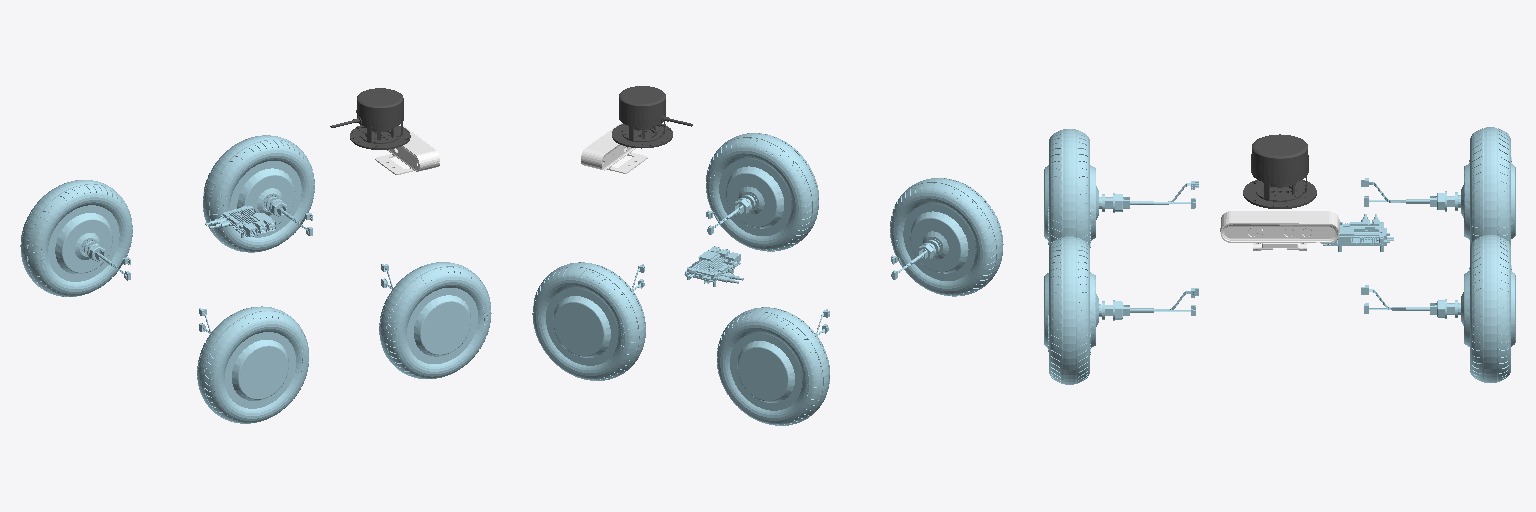
The robot description file, URDF, robot "S200_diff_robot":
<?xml version="1.0" encoding="utf-8"?>
<!-- This URDF was automatically created by SolidWorks to URDF Exporter! Originally created by [author] ([email redacted]) 
     Commit Version: 1.6.0-4-g7f85cfe  Build Version: 1.6.7995.38578
     For more information, please see http://wiki.ros.org/sw_urdf_exporter -->
<robot
  name="S200_diff_robot">
  <link
    name="base_link">
    <inertial>
      <origin
        xyz="-0.0082751 -0.036756 0.079893"
        rpy="0 0 0" />
      <mass
        value="8.9762" />
      <inertia
        ixx="0.059402"
        ixy="8.4154E-05"
        ixz="-0.00082885"
        iyy="0.056701"
        iyz="-3.3321E-05"
        izz="0.10541" />
    </inertial>
    <visual>
      <origin
        xyz="0 0 0"
        rpy="0 0 0" />
      <geometry>
        <mesh
          filename="package://wheeltec_robot_urdf/meshes/S200_diff_robot_meshes/base_link.STL" />
      </geometry>
      <material
        name="">
        <color
          rgba="0.37647 0.37647 0.37647 1" />
      </material>
    </visual>
    <collision>
      <origin
        xyz="0 0 0"
        rpy="0 0 0" />
      <geometry>
        <mesh
          filename="package://wheeltec_robot_urdf/meshes/S200_diff_robot_meshes/base_link.STL" />
      </geometry>
    </collision>
  </link>
  <link
    name="laser_link">
    <inertial>
      <origin
        xyz="-0.00116387542477436 -1.43341130733055E-05 -0.0153253315835694"
        rpy="0 0 0" />
      <mass
        value="0.0744137203029274" />
      <inertia
        ixx="5.07812779984651E-05"
        ixy="-1.80357505374744E-08"
        ixz="-9.82567135455483E-07"
        iyy="5.528331966904E-05"
        iyz="-7.35435978669885E-10"
        izz="8.82566127125562E-05" />
    </inertial>
    <visual>
      <origin
        xyz="0 0 0"
        rpy="0 0 0" />
      <geometry>
        <mesh
          filename="package://wheeltec_robot_urdf/meshes/S200_diff_robot_meshes/laser_link.STL" />
      </geometry>
      <material
        name="">
        <color
          rgba="0.376470588235294 0.376470588235294 0.376470588235294 1" />
      </material>
    </visual>
    <collision>
      <origin
        xyz="0 0 0"
        rpy="0 0 0" />
      <geometry>
        <mesh
          filename="package://wheeltec_robot_urdf/meshes/S200_diff_robot_meshes/laser_link.STL" />
      </geometry>
    </collision>
  </link>
  <joint
    name="laser_joint"
    type="fixed">
    <origin
      xyz="0.24012752875972 0.000105321716951851 0.29003261086643"
      rpy="0 0 0" />
    <parent
      link="base_link" />
    <child
      link="laser_link" />
    <axis
      xyz="0 0 0" />
  </joint>
  <link
    name="camera_link">
    <inertial>
      <origin
        xyz="-0.00177242984917677 -1.55648592166935E-05 -0.00181083880658627"
        rpy="0 0 0" />
      <mass
        value="0.0602274954022693" />
      <inertia
        ixx="0.000133435926180343"
        ixy="-9.96617453031448E-07"
        ixz="1.6229934269714E-06"
        iyy="1.97954968729884E-05"
        iyz="-4.42334063856432E-08"
        izz="0.000134690240666836" />
    </inertial>
    <visual>
      <origin
        xyz="0 0 0"
        rpy="0 0 0" />
      <geometry>
        <mesh
          filename="package://wheeltec_robot_urdf/meshes/S200_diff_robot_meshes/camera_link.STL" />
      </geometry>
      <material
        name="">
        <color
          rgba="1 1 1 1" />
      </material>
    </visual>
    <collision>
      <origin
        xyz="0 0 0"
        rpy="0 0 0" />
      <geometry>
        <mesh
          filename="package://wheeltec_robot_urdf/meshes/S200_diff_robot_meshes/camera_link.STL" />
      </geometry>
    </collision>
  </link>
  <joint
    name="camera_joint"
    type="fixed">
    <origin
      xyz="0.291921528759723 0.000328321716947771 0.21270400000001"
      rpy="0 0 0" />
    <parent
      link="base_link" />
    <child
      link="camera_link" />
    <axis
      xyz="0 0 0" />
  </joint>
  <link
    name="controller_link">
    <inertial>
      <origin
        xyz="-0.0215180544575649 -0.101576840092756 -0.0142985393665018"
        rpy="0 0 0" />
      <mass
        value="16.3135324061328" />
      <inertia
        ixx="0.86101016894643"
        ixy="0.00458450849928628"
        ixz="0.00423806972153881"
        iyy="0.510377444459043"
        iyz="-0.00315891208106369"
        izz="1.24639568502167" />
    </inertial>
    <visual>
      <origin
        xyz="0 0 0"
        rpy="0 0 0" />
      <geometry>
        <mesh
          filename="package://wheeltec_robot_urdf/meshes/S200_diff_robot_meshes/controller_link.STL" />
      </geometry>
      <material
        name="">
        <color
          rgba="0.741176470588235 0.901960784313726 0.956862745098039 1" />
      </material>
    </visual>
    <collision>
      <origin
        xyz="0 0 0"
        rpy="0 0 0" />
      <geometry>
        <mesh
          filename="package://wheeltec_robot_urdf/meshes/S200_diff_robot_meshes/controller_link.STL" />
      </geometry>
    </collision>
  </link>
  <joint
    name="controller_joint"
    type="fixed">
    <origin
      xyz="0.0190603985474061 0.081401826363683 0.0766000028295759"
      rpy="0 0 0" />
    <parent
      link="base_link" />
    <child
      link="controller_link" />
    <axis
      xyz="0 0 0" />
  </joint>
  <link
    name="rb_wheel_link">
    <inertial>
      <origin
        xyz="6.21578804788081E-06 0.0010671650048456 2.10951664844083E-05"
        rpy="0 0 0" />
      <mass
        value="1.80067920965915" />
      <inertia
        ixx="0.00472216215920028"
        ixy="-1.70056190991038E-09"
        ixz="1.61065415604396E-07"
        iyy="0.00839319793490722"
        iyz="9.32957087360779E-08"
        izz="0.00472235590933654" />
    </inertial>
    <visual>
      <origin
        xyz="0 0 0"
        rpy="0 0 0" />
      <geometry>
        <mesh
          filename="package://wheeltec_robot_urdf/meshes/S200_diff_robot_meshes/rb_wheel_link.STL" />
      </geometry>
      <material
        name="">
        <color
          rgba="0.741176470588235 0.901960784313726 0.956862745098039 1" />
      </material>
    </visual>
    <collision>
      <origin
        xyz="0 0 0"
        rpy="0 0 0" />
      <geometry>
        <mesh
          filename="package://wheeltec_robot_urdf/meshes/S200_diff_robot_meshes/rb_wheel_link.STL" />
      </geometry>
    </collision>
  </link>
  <joint
    name="rb_wheel_joint"
    type="continuous">
    <origin
      xyz="-0.173380898365079 -0.29119024152839 0.0370000000000128"
      rpy="0 0 0" />
    <parent
      link="base_link" />
    <child
      link="rb_wheel_link" />
    <axis
      xyz="0 -1 0" />
  </joint>
  <link
    name="rf_wheel_link">
    <inertial>
      <origin
        xyz="6.21572879501431E-06 0.00106716474984914 2.10952966172573E-05"
        rpy="0 0 0" />
      <mass
        value="1.80067918832513" />
      <inertia
        ixx="0.00472216208175719"
        ixy="-1.70204983173848E-09"
        ixz="1.61063373200953E-07"
        iyy="0.0083931978164185"
        iyz="9.33009765020997E-08"
        izz="0.00472235584128827" />
    </inertial>
    <visual>
      <origin
        xyz="0 0 0"
        rpy="0 0 0" />
      <geometry>
        <mesh
          filename="package://wheeltec_robot_urdf/meshes/S200_diff_robot_meshes/rf_wheel_link.STL" />
      </geometry>
      <material
        name="">
        <color
          rgba="0.741176470588235 0.901960784313726 0.956862745098039 1" />
      </material>
    </visual>
    <collision>
      <origin
        xyz="0 0 0"
        rpy="0 0 0" />
      <geometry>
        <mesh
          filename="package://wheeltec_robot_urdf/meshes/S200_diff_robot_meshes/rf_wheel_link.STL" />
      </geometry>
    </collision>
  </link>
  <joint
    name="rf_wheel_joint"
    type="continuous">
    <origin
      xyz="0.178635955884511 -0.291198668653149 0.0370000000000116"
      rpy="0 0 0" />
    <parent
      link="base_link" />
    <child
      link="rf_wheel_link" />
    <axis
      xyz="0 -1 0" />
  </joint>
  <link
    name="lb_wheel_link">
    <inertial>
      <origin
        xyz="-6.21580698467739E-06 -0.00106716503526716 2.10952576883694E-05"
        rpy="0 0 0" />
      <mass
        value="1.80067920621197" />
      <inertia
        ixx="0.00472216214325463"
        ixy="-1.7000015731621E-09"
        ixz="-1.61067991427927E-07"
        iyy="0.00839319791812164"
        iyz="-9.32986583256563E-08"
        izz="0.0047223559061588" />
    </inertial>
    <visual>
      <origin
        xyz="0 0 0"
        rpy="0 0 0" />
      <geometry>
        <mesh
          filename="package://wheeltec_robot_urdf/meshes/S200_diff_robot_meshes/lb_wheel_link.STL" />
      </geometry>
      <material
        name="">
        <color
          rgba="0.741176470588235 0.901960784313726 0.956862745098039 1" />
      </material>
    </visual>
    <collision>
      <origin
        xyz="0 0 0"
        rpy="0 0 0" />
      <geometry>
        <mesh
          filename="package://wheeltec_robot_urdf/meshes/S200_diff_robot_meshes/lb_wheel_link.STL" />
      </geometry>
    </collision>
  </link>
  <joint
    name="lb_wheel_joint"
    type="continuous">
    <origin
      xyz="-0.178380898365071 0.291417739211828 0.037000000000014"
      rpy="0 0 0" />
    <parent
      link="base_link" />
    <child
      link="lb_wheel_link" />
    <axis
      xyz="0 1 0" />
  </joint>
  <link
    name="lf_wheel_link">
    <inertial>
      <origin
        xyz="-6.21576378974364E-06 -0.0010671647357693 2.10953490948629E-05"
        rpy="0 0 0" />
      <mass
        value="1.80067918990027" />
      <inertia
        ixx="0.0047221620871708"
        ixy="-1.70090249456553E-09"
        ixz="-1.61067443593371E-07"
        iyy="0.00839319782406416"
        iyz="-9.33026876094638E-08"
        izz="0.00472235584460127" />
    </inertial>
    <visual>
      <origin
        xyz="0 0 0"
        rpy="0 0 0" />
      <geometry>
        <mesh
          filename="package://wheeltec_robot_urdf/meshes/S200_diff_robot_meshes/lf_wheel_link.STL" />
      </geometry>
      <material
        name="">
        <color
          rgba="0.741176470588235 0.901960784313726 0.956862745098039 1" />
      </material>
    </visual>
    <collision>
      <origin
        xyz="0 0 0"
        rpy="0 0 0" />
      <geometry>
        <mesh
          filename="package://wheeltec_robot_urdf/meshes/S200_diff_robot_meshes/lf_wheel_link.STL" />
      </geometry>
    </collision>
  </link>
  <joint
    name="lf_wheel_joint"
    type="continuous">
    <origin
      xyz="0.173635955884525 0.291409312087058 0.0370000000000106"
      rpy="0 0 0" />
    <parent
      link="base_link" />
    <child
      link="lf_wheel_link" />
    <axis
      xyz="0 1 0" />
  </joint>
</robot>

--- Facts derived from the render (not from the file) ---
Views: 3 orthographic renders of the robot side by side, from view 1: azimuth 30°, elevation 25°; view 2: azimuth 150°, elevation 25°; view 3: azimuth 270°, elevation 25°.
Model S200_diff_robot with 8 links and 7 joints (4 continuous, 3 fixed), rooted at base_link, posed all joints at 0.
Visible links, largest first — view 1: rf_wheel_link, rb_wheel_link, lb_wheel_link, lf_wheel_link, laser_link, camera_link, controller_link; view 2: lb_wheel_link, lf_wheel_link, rb_wheel_link, rf_wheel_link, laser_link, camera_link, controller_link; view 3: rf_wheel_link, lf_wheel_link, lb_wheel_link, rb_wheel_link, laser_link, camera_link, controller_link.
Link boxes in pixels (x1,y1,x2,y2): rf_wheel_link: (379, 262, 491, 378); rb_wheel_link: (197, 306, 308, 423); lb_wheel_link: (20, 180, 132, 296); lf_wheel_link: (203, 135, 314, 252); laser_link: (330, 88, 410, 149); camera_link: (375, 124, 439, 174); controller_link: (205, 206, 276, 237); lb_wheel_link: (717, 307, 829, 425); lf_wheel_link: (532, 262, 645, 380); rb_wheel_link: (890, 178, 1003, 296); rf_wheel_link: (706, 133, 818, 251); laser_link: (612, 86, 692, 148); camera_link: (581, 122, 647, 173); controller_link: (684, 246, 743, 286); rf_wheel_link: (1044, 236, 1198, 384); lf_wheel_link: (1361, 235, 1515, 382); lb_wheel_link: (1361, 127, 1515, 244); rb_wheel_link: (1044, 129, 1198, 247); laser_link: (1243, 134, 1316, 208); camera_link: (1220, 211, 1339, 250); controller_link: (1321, 214, 1393, 251).
Bounding box of the posed robot: 0.5921 × 0.6518 × 0.3839 m (x, y, z).
Meshes: 8 distinct files referenced, 7 mesh visuals loaded (7 binary STL); not drawn: 1 (reference not matched to a file when rendering).